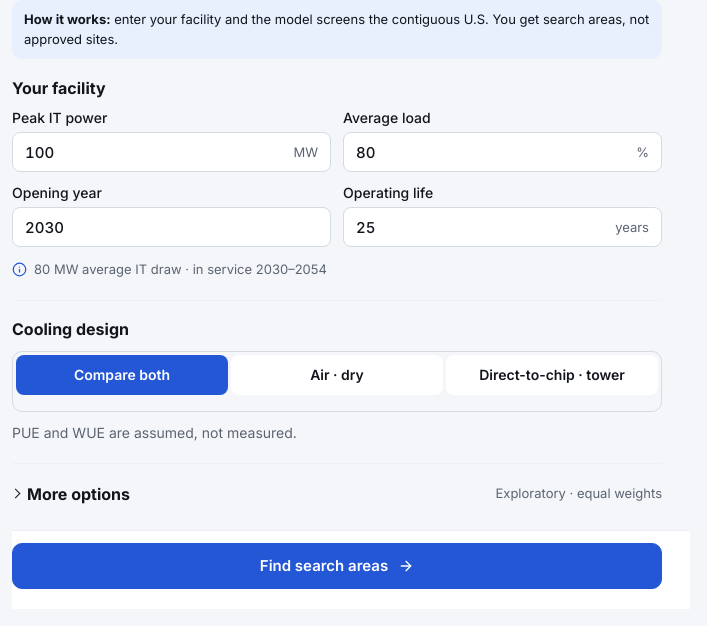
Test: start screen facility form › reads the facility back in plain terms and updates it as the inputs change
Expected: the text "80 MW average IT draw · in service 2030–2054" is shown, [12, 261, 327, 277]
Step 1. Replace the text in the number field named "Average load percent" with "65" → (492, 152), box [356, 133, 628, 171]
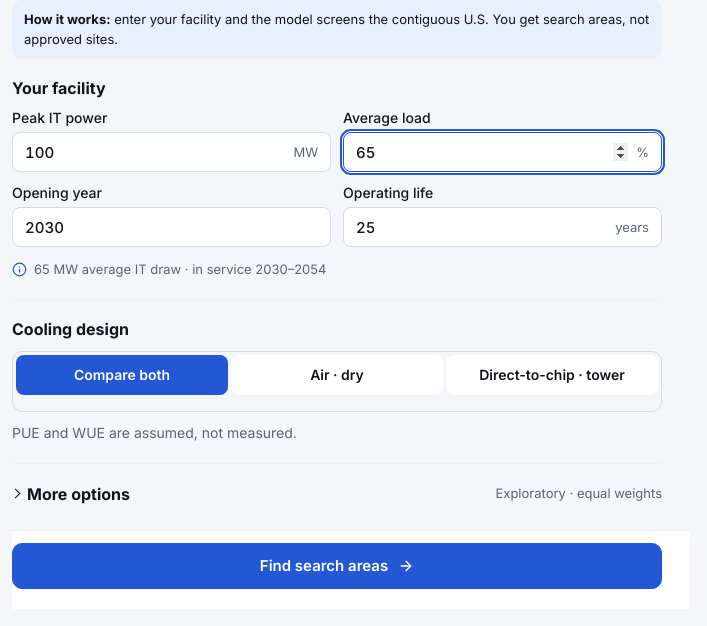
Expected: the text "65 MW average IT draw · in service 2030–2054" is shown, [12, 261, 326, 277]
